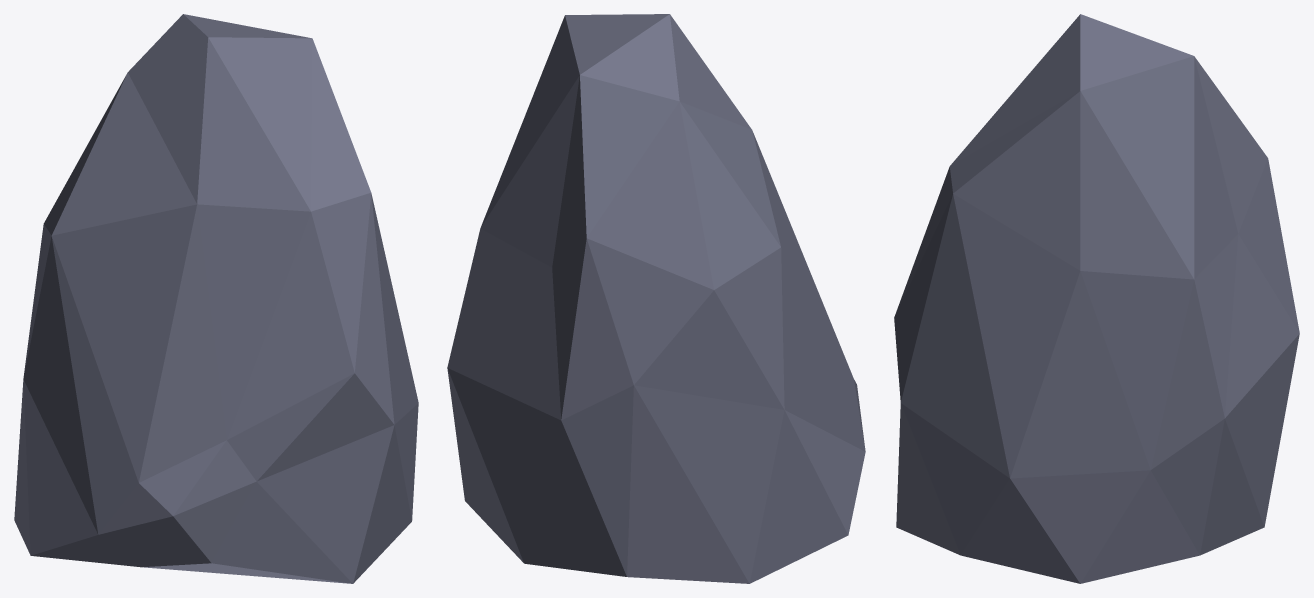
Rendered from Steen hoog3.fbx.
The picture shows the model from 3 angles, left to right: view 1: azimuth 30°, elevation 25°; view 2: azimuth 150°, elevation 25°; view 3: azimuth 270°, elevation 25°; orthographic projection.
Visible parts, largest first — view 1: Icosphere.003; view 2: Icosphere.003; view 3: Icosphere.003.
Boxes of the visible parts, x1,y1,x2,y2 form: Icosphere.003: (14, 14, 418, 583); Icosphere.003: (447, 14, 865, 583); Icosphere.003: (894, 14, 1299, 583).
Bounding box in the file's own units: 122 × 163 × 123.
